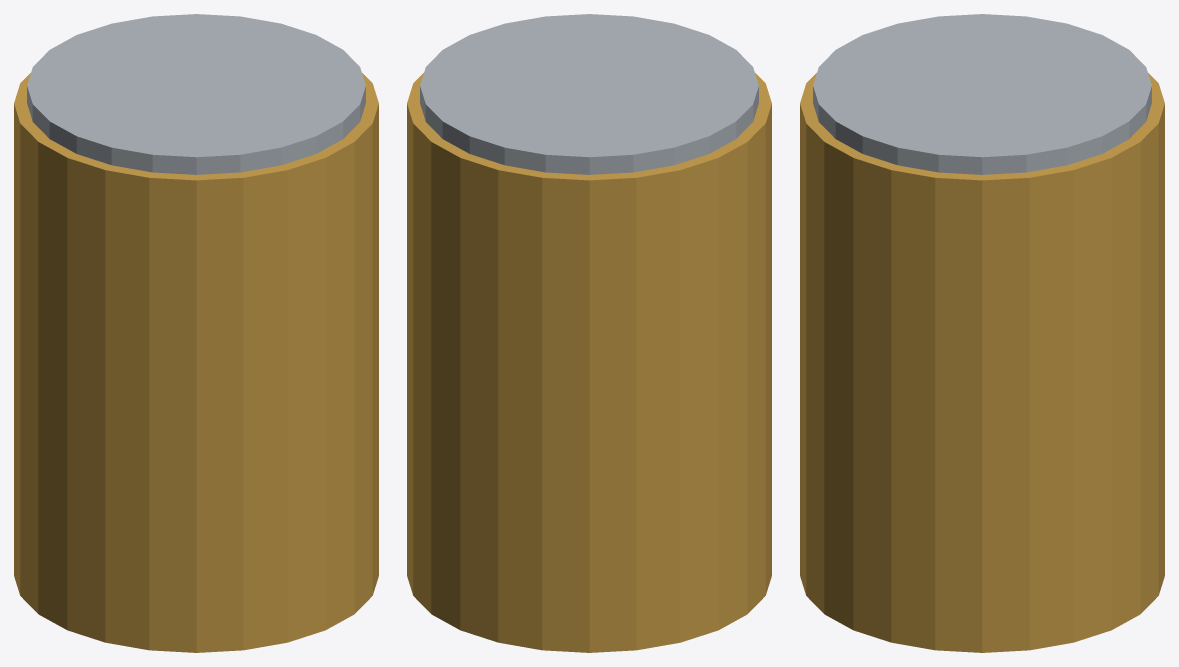
Rendered from L128_AUDIO_C05.fbx.
3 renders of one model, left to right at view 1: azimuth 30°, elevation 25°; view 2: azimuth 150°, elevation 25°; view 3: azimuth 270°, elevation 25°, orthographic.
Parts seen in each view (by area): view 1: AUDIO_C05__Gold, AUDIO_C05__Steel; view 2: AUDIO_C05__Gold, AUDIO_C05__Steel; view 3: AUDIO_C05__Gold, AUDIO_C05__Steel.
Part boxes in pixels (x1,y1,x2,y2): AUDIO_C05__Gold: (14, 73, 378, 652); AUDIO_C05__Steel: (27, 14, 365, 174); AUDIO_C05__Gold: (407, 73, 771, 652); AUDIO_C05__Steel: (420, 14, 758, 174); AUDIO_C05__Gold: (800, 73, 1164, 652); AUDIO_C05__Steel: (813, 14, 1151, 174).
Bounding box in the file's own units: 5.6 × 8.3 × 5.6.
